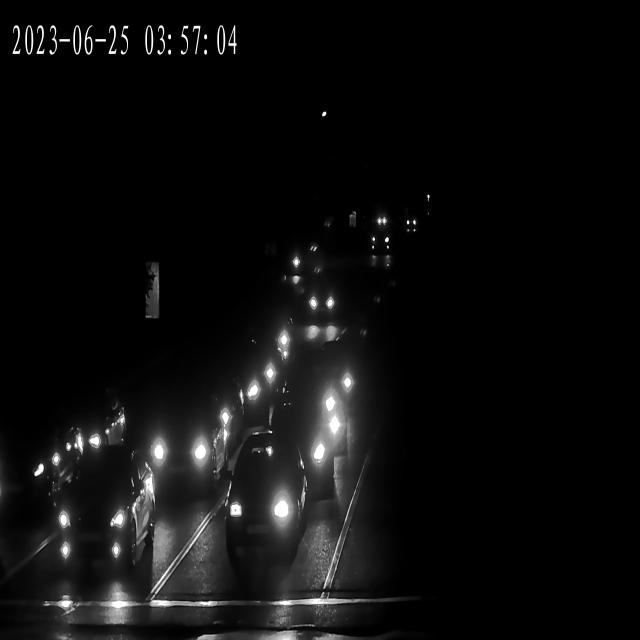Car: (45, 456, 154, 572), (120, 394, 224, 498), (26, 384, 130, 484), (266, 376, 350, 491), (224, 451, 308, 563), (0, 419, 72, 528), (272, 374, 355, 466), (183, 351, 271, 422), (165, 377, 243, 456), (193, 346, 285, 408), (302, 349, 366, 409), (301, 284, 343, 321), (282, 250, 327, 284), (360, 232, 389, 260), (366, 232, 392, 258), (403, 217, 423, 236), (397, 216, 418, 234), (368, 212, 389, 230)
